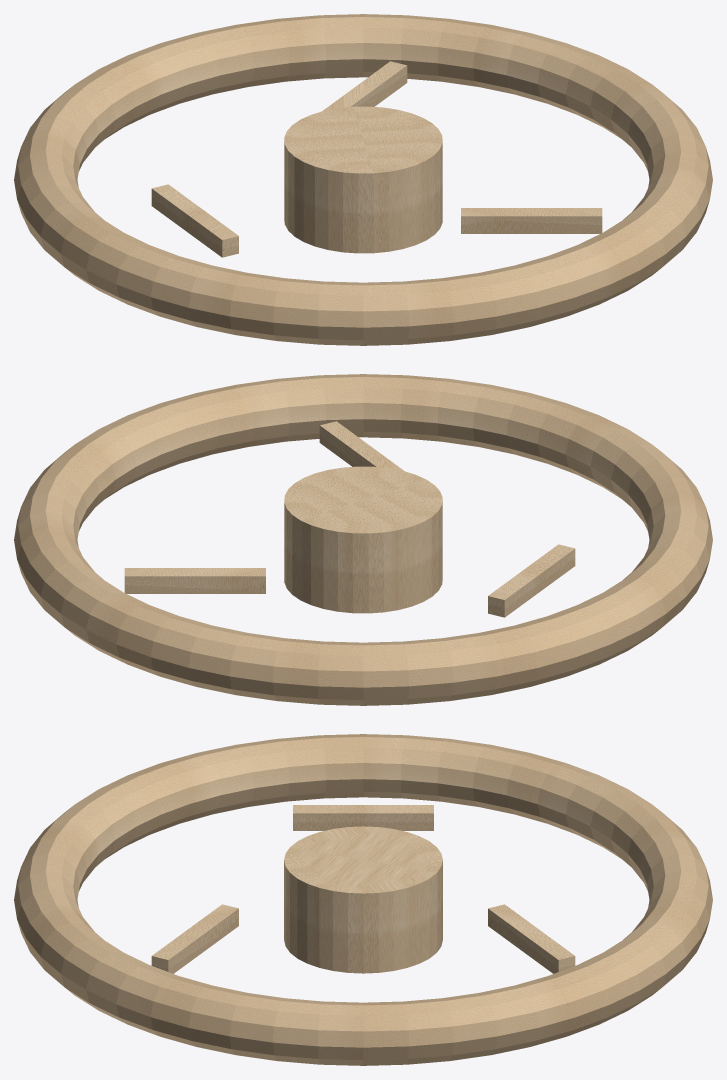
File: steering_wheel.glb
3 views of the same model, one above another, from view 1: azimuth 30°, elevation 25°; view 2: azimuth 150°, elevation 25°; view 3: azimuth 270°, elevation 25° (orthographic).
Visible parts, largest first — view 1: Torus; view 2: Torus; view 3: Torus.
Part boxes in pixels (x1=…): Torus: x1=14, y1=14, x2=712, y2=345; Torus: x1=14, y1=374, x2=712, y2=705; Torus: x1=14, y1=734, x2=712, y2=1065.
Bounding box in the file's own units: 0.396 × 0.05 × 0.396.
Materials: 1 (1 with a texture image).
